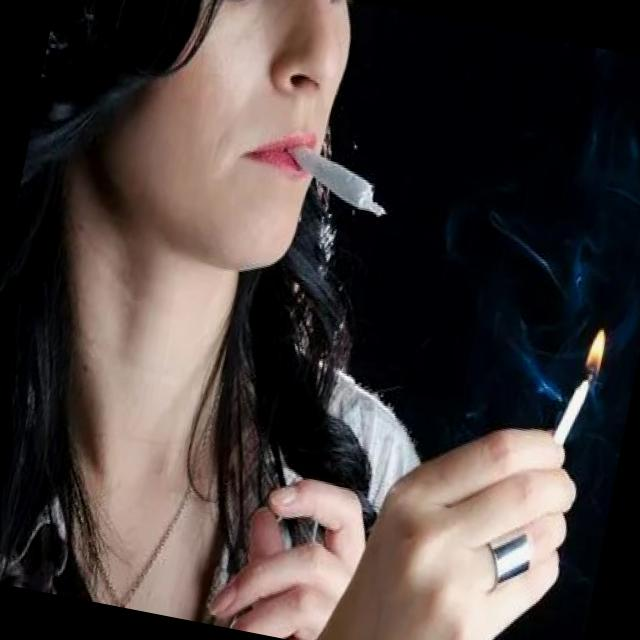cigarette: (274, 140, 398, 223)
